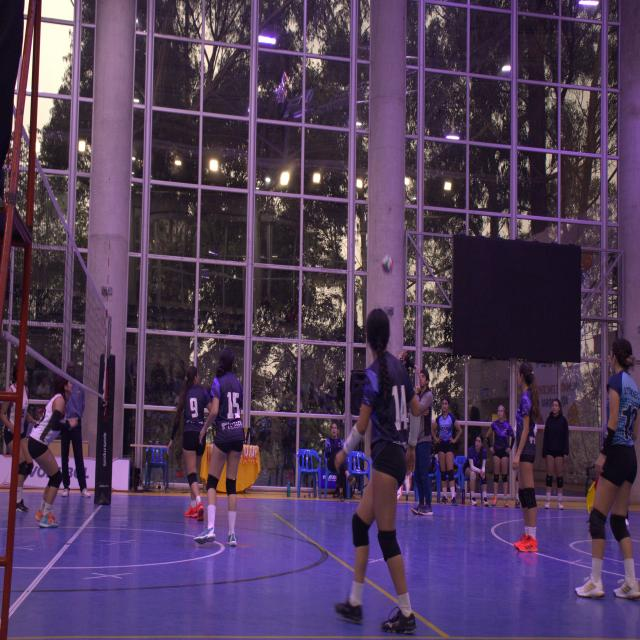volleyball: (382, 254, 393, 274)
